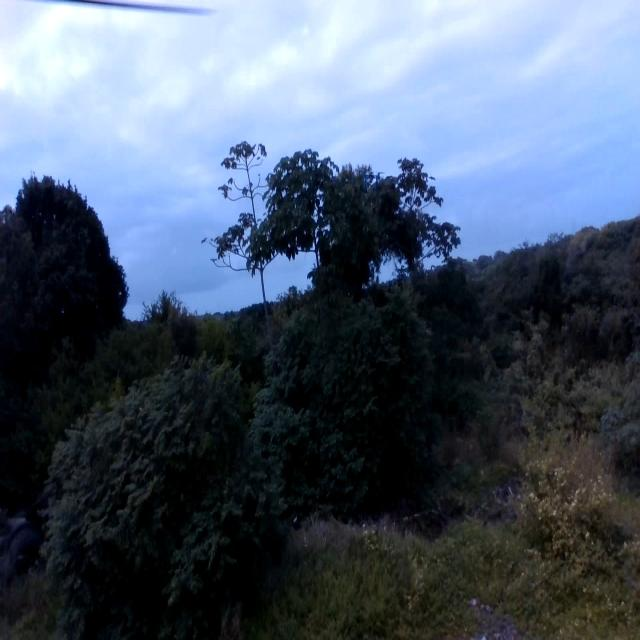-uav-: (356, 162, 390, 196)
